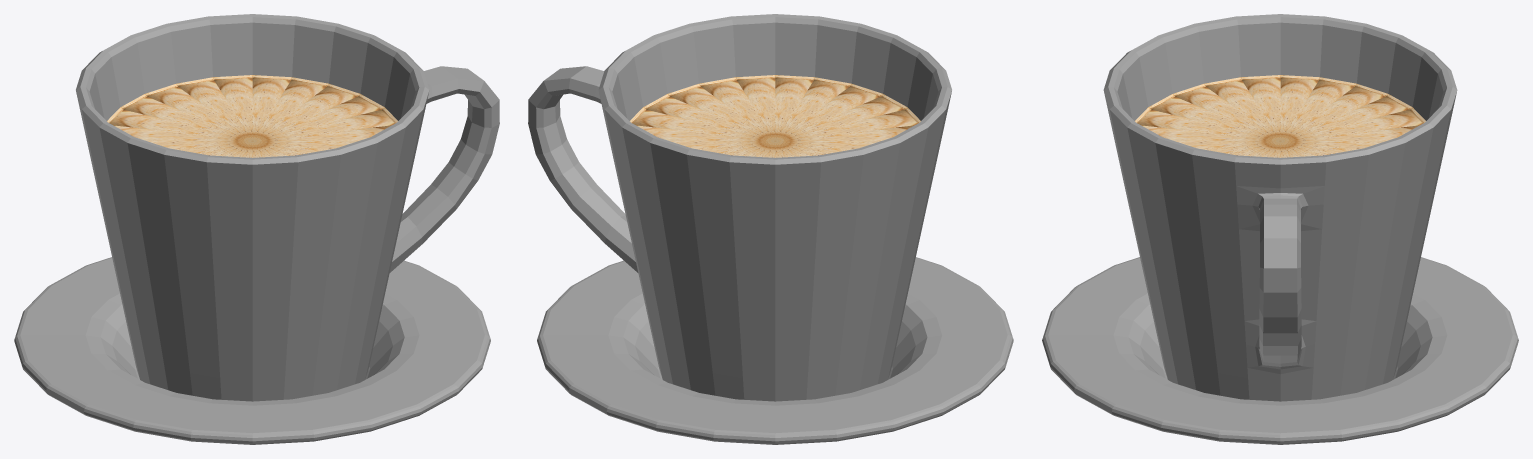
Rendered from Coffee.fbx.
3 views of the same model, side by side, from view 1: azimuth 30°, elevation 25°; view 2: azimuth 150°, elevation 25°; view 3: azimuth 270°, elevation 25° (orthographic).
Parts seen in each view (by area): view 1: Coffee_cup:coffee_cupcoffe_cup, Coffee_cup:coffee_cupplate, Coffee_cup:coffee_cupcoffee; view 2: Coffee_cup:coffee_cupcoffe_cup, Coffee_cup:coffee_cupplate, Coffee_cup:coffee_cupcoffee; view 3: Coffee_cup:coffee_cupcoffe_cup, Coffee_cup:coffee_cupplate, Coffee_cup:coffee_cupcoffee.
Part boxes in pixels (<box>): Coffee_cup:coffee_cupcoffe_cup: <box>76,14,499,401</box>; Coffee_cup:coffee_cupplate: <box>14,257,490,444</box>; Coffee_cup:coffee_cupcoffee: <box>107,75,397,157</box>; Coffee_cup:coffee_cupcoffe_cup: <box>528,14,951,401</box>; Coffee_cup:coffee_cupplate: <box>537,257,1013,444</box>; Coffee_cup:coffee_cupcoffee: <box>630,75,920,157</box>; Coffee_cup:coffee_cupcoffe_cup: <box>1103,14,1457,401</box>; Coffee_cup:coffee_cupplate: <box>1042,257,1518,444</box>; Coffee_cup:coffee_cupcoffee: <box>1135,75,1425,157</box>.
Bounding box in the file's own units: 12.67 × 8.29 × 11.75.
